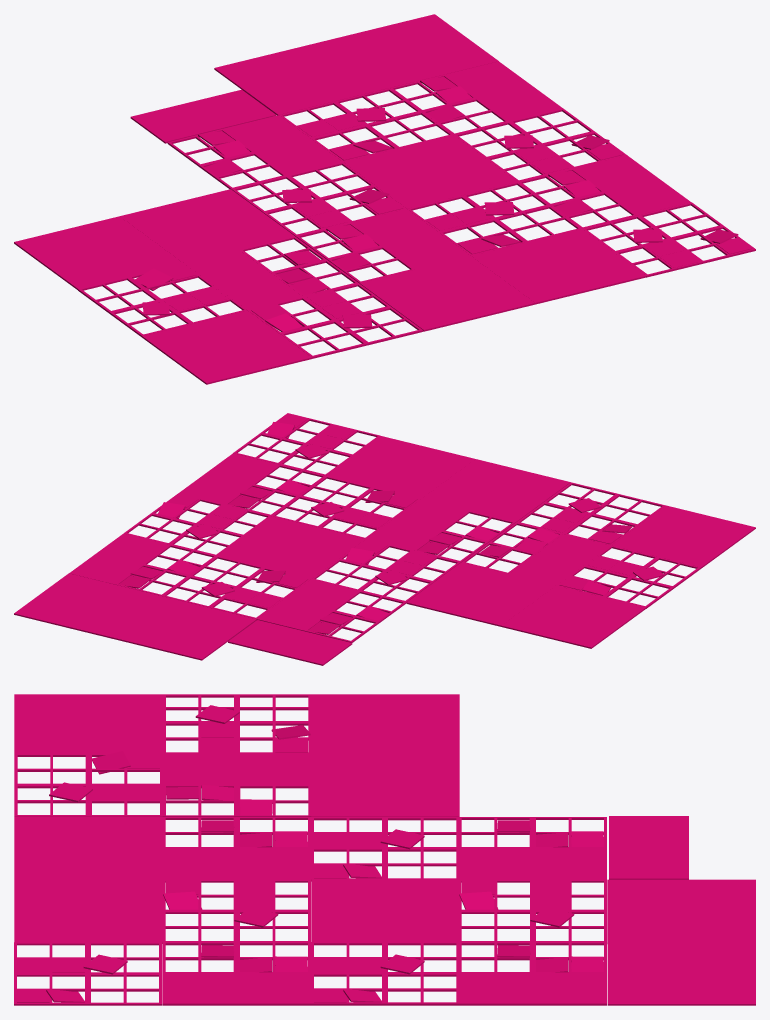
File: S_02_DropCeiling_01.fbx
The picture shows the model from 3 angles, top to bottom: view 1: azimuth 30°, elevation 25°; view 2: azimuth 150°, elevation 25°; view 3: azimuth 270°, elevation 25°; orthographic projection. The views are drawn at different scales.
Parts seen in each view (by area): view 1: S_02_DropCeiling_01; view 2: S_02_DropCeiling_01; view 3: S_02_DropCeiling_01.
Boxes of the visible parts, left/top/right/bottom form: S_02_DropCeiling_01: left=14, top=14, right=755, bottom=384; S_02_DropCeiling_01: left=14, top=413, right=755, bottom=665; S_02_DropCeiling_01: left=14, top=694, right=755, bottom=1005.
Bounding box in the file's own units: 1481 × 15.95 × 1500.
